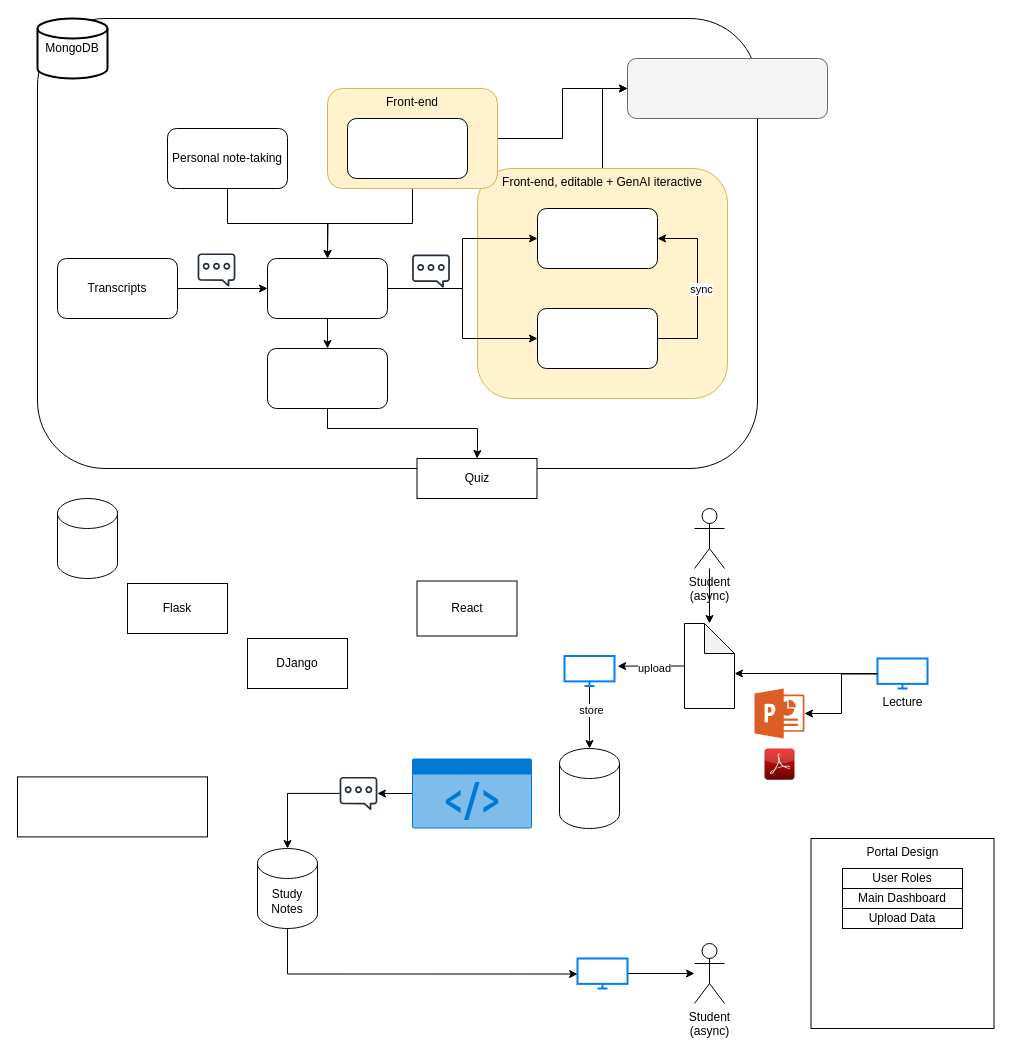
This 1012x1056 diagram has some shape labels left out. Here are the shapes that lost their labels. From the top down, the centre of each, then its label:
At point (727, 88): "Sharing (private/public, editable/viewer) + contact (stars)".
At point (407, 148): "Human-in-the-loop".
At point (597, 238): "Highlights (JSON)".
At point (327, 288): "Organised (JSON/LaTeX), Detailed Notes".
At point (597, 338): "Cheatsheet".
At point (327, 378): "Anki flash cards".
At point (709, 665): "Transcript (.txt)".
At point (112, 806): "Front End Layout / Buttons Back End API AI".
At point (472, 793): "processing (chunking)".
